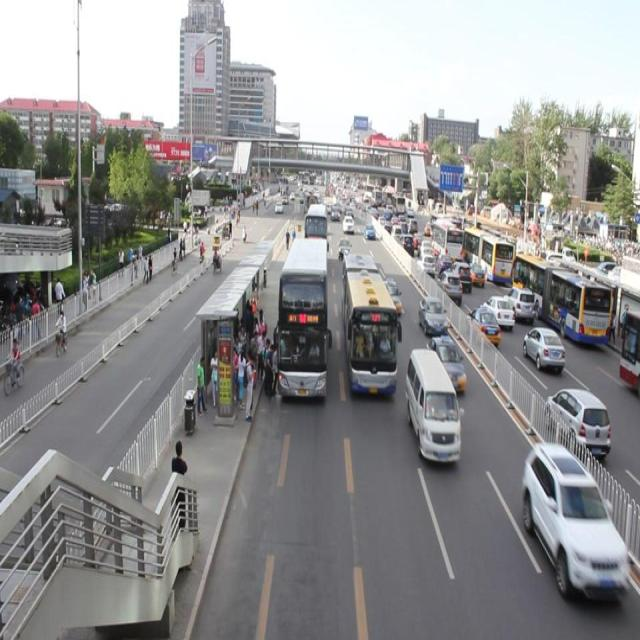car: (523, 440, 624, 602), (426, 334, 464, 394), (418, 296, 445, 335), (378, 276, 401, 317), (306, 207, 317, 230), (337, 238, 351, 256), (342, 214, 354, 234), (364, 222, 374, 239), (330, 207, 340, 223), (344, 207, 353, 220)
truck: (404, 349, 459, 466)
van: (280, 238, 326, 401), (343, 252, 394, 398), (304, 202, 327, 261)
